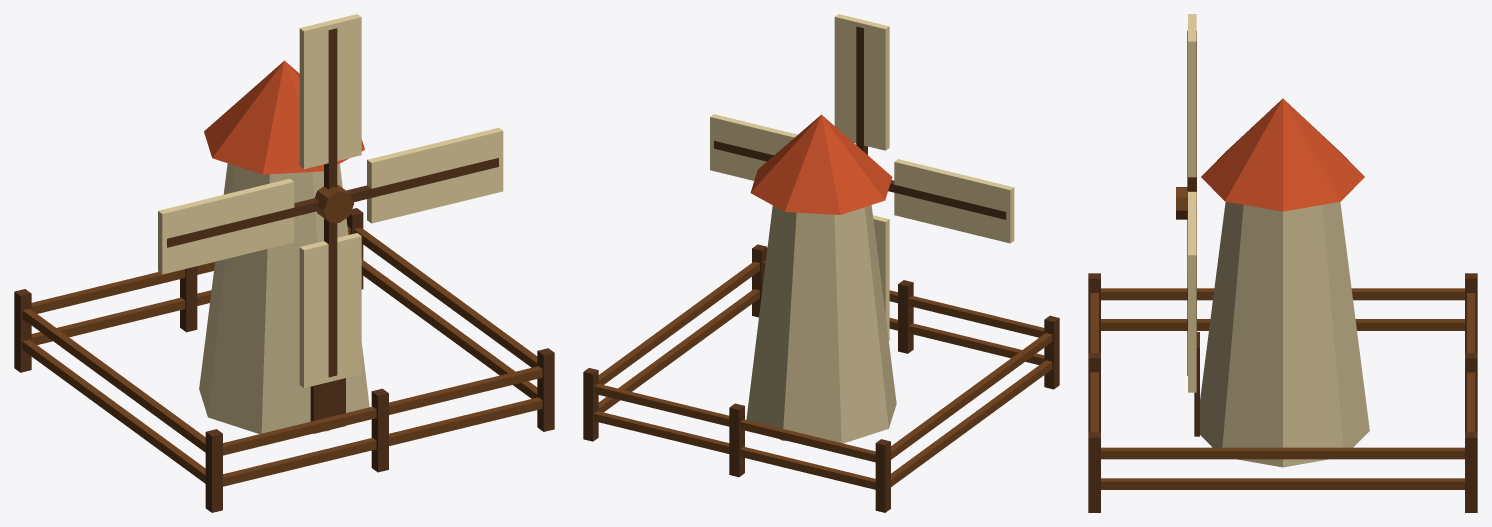
File: windmill.glb
3 views of the same model, side by side, from view 1: azimuth 30°, elevation 25°; view 2: azimuth 150°, elevation 25°; view 3: azimuth 270°, elevation 25° (orthographic). The views are drawn at different scales.
Visible parts, largest first — view 1: Fence rail.003, Mill tower, Door, Canvas sail.001, Canvas sail.003, Canvas sail.002, Canvas sail, Mill roof, Sail spar.001, Sail spar.003, Sail spar.002, Sail spar; view 2: Mill tower, Fence rail.003, Mill roof, Canvas sail.002, Canvas sail.001, Door, Canvas sail, Canvas sail.003, Sail spar.002, Sail spar.001; view 3: Mill tower, Fence rail.003, Mill roof, Door, Canvas sail.001, Canvas sail, Canvas sail.003, Sail spar.001.
Boxes of the visible parts, x1,y1,x2,y2 form: Fence rail.003: (22,185,542,486); Mill tower: (199,163,369,433); Door: (14,208,554,512); Canvas sail.001: (299,14,361,169); Canvas sail.003: (299,233,361,387); Canvas sail.002: (158,178,294,274); Canvas sail: (367,127,503,223); Mill roof: (204,60,364,174); Sail spar.001: (324,28,337,189); Sail spar.003: (324,218,337,377); Sail spar.002: (167,198,319,247); Sail spar: (346,158,498,201); Mill tower: (746,205,896,443); Fence rail.003: (594,261,1052,489); Mill roof: (750,114,892,214); Canvas sail.002: (894,159,1014,243); Canvas sail.001: (834,14,889,150); Door: (583,244,1059,512); Canvas sail: (710,114,797,180); Canvas sail.003: (873,215,889,340); Sail spar.002: (888,180,1006,219); Sail spar.001: (856,26,867,154); Mill tower: (1200,202,1369,467); Fence rail.003: (1090,187,1475,489); Mill roof: (1201,98,1364,211); Door: (1088,273,1477,512); Canvas sail.001: (1188,14,1196,177); Canvas sail: (1188,192,1196,314); Canvas sail.003: (1188,315,1196,392); Sail spar.001: (1187,30,1196,191).
Size of the model in its own units: 4.03 by 4.6 by 4.03.
